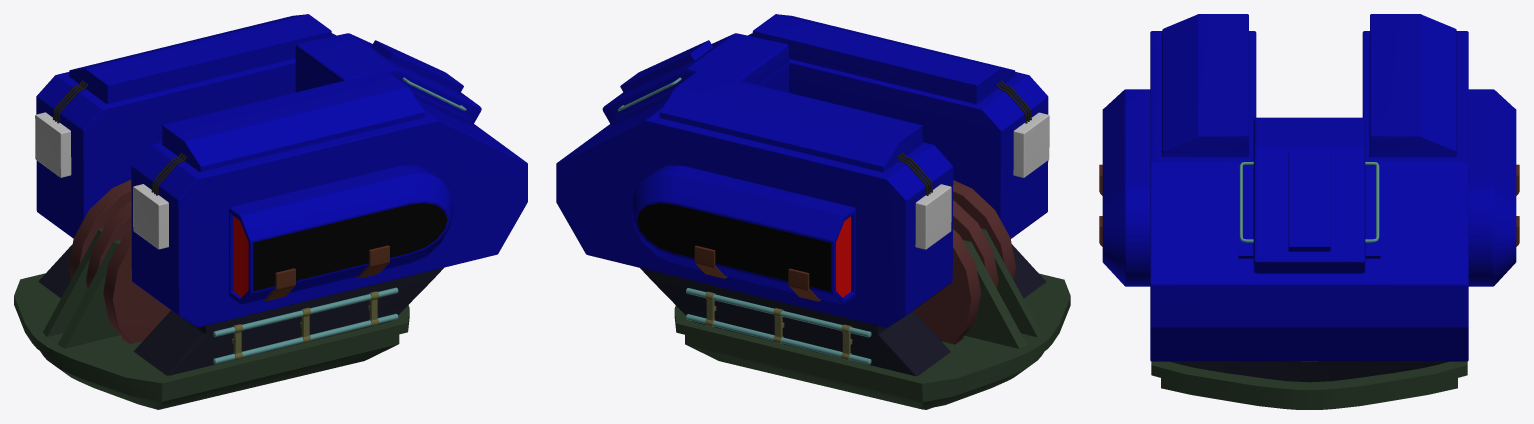
The model's file is ArtilleryBody.fbx.
3 renders of one model, left to right at view 1: azimuth 30°, elevation 25°; view 2: azimuth 150°, elevation 25°; view 3: azimuth 270°, elevation 25°, orthographic. The views are drawn at different scales.
Visible parts, largest first — view 1: ArtilleryBody; view 2: ArtilleryBody; view 3: ArtilleryBody.
Part boxes in pixels (x1=…): ArtilleryBody: x1=14, y1=14, x2=527, y2=409; ArtilleryBody: x1=556, y1=14, x2=1070, y2=409; ArtilleryBody: x1=1099, y1=14, x2=1519, y2=409.
Size of the model in its own units: 227 by 178 by 134.
